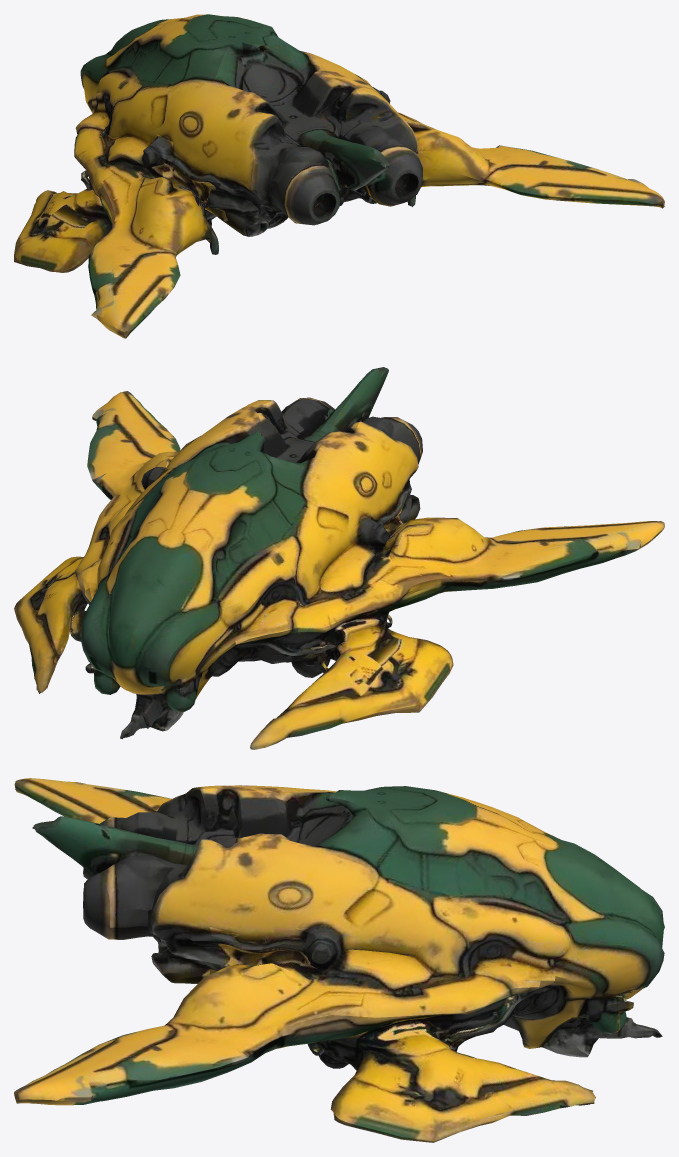
Rendered from player.glb.
3 views of the same model, one above another, from view 1: azimuth 30°, elevation 25°; view 2: azimuth 150°, elevation 25°; view 3: azimuth 270°, elevation 25° (orthographic). The views are drawn at different scales.
Parts seen in each view (by area): view 1: Mesh0; view 2: Mesh0; view 3: Mesh0.
Part boxes in pixels (<box>): Mesh0: <box>14,14,664,338</box>; Mesh0: <box>14,367,664,749</box>; Mesh0: <box>14,778,664,1142</box>.
Size of the model in its own units: 2 by 0.7694 by 1.74.
1 material, 1 textured.
